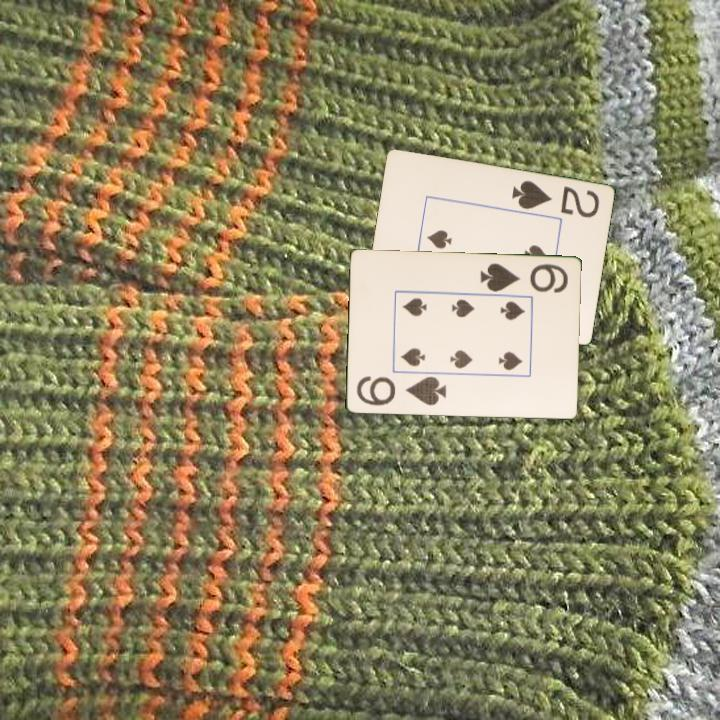2s: (508, 177, 602, 221)
6s: (352, 373, 448, 409), (476, 260, 571, 296)
